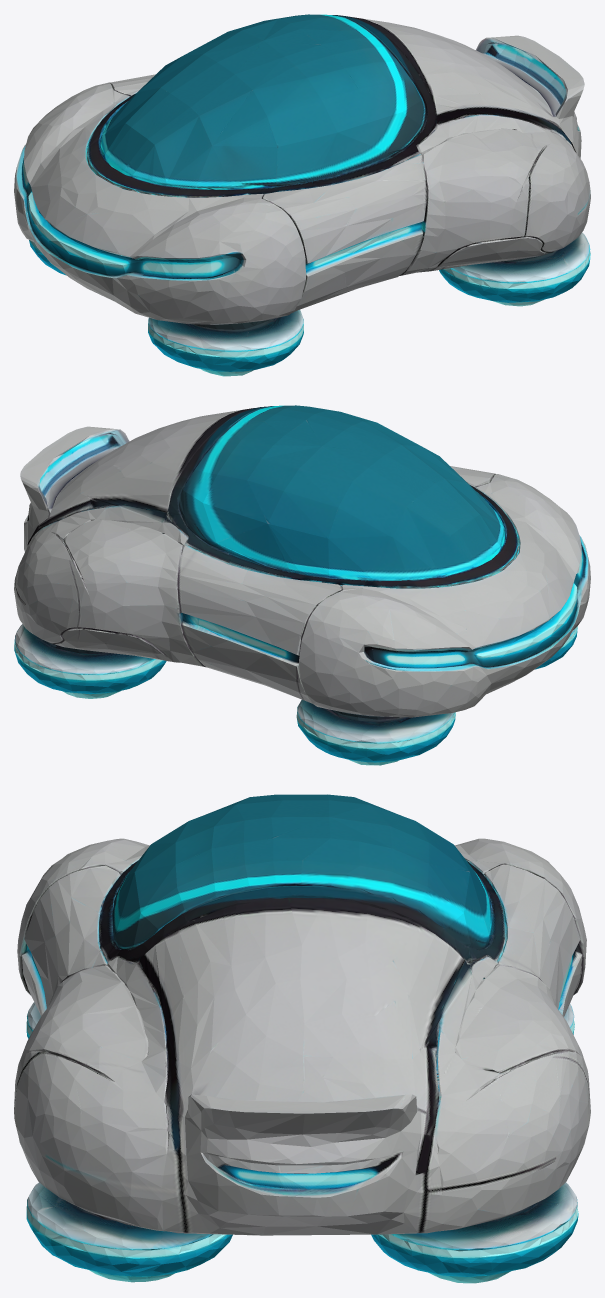
Rendered from hover_car.glb.
3 renders of one model, top to bottom at view 1: azimuth 30°, elevation 25°; view 2: azimuth 150°, elevation 25°; view 3: azimuth 270°, elevation 25°, orthographic. The views are drawn at different scales.
Parts seen in each view (by area): view 1: geometry_0; view 2: geometry_0; view 3: geometry_0.
Part boxes in pixels (left/top/right/bottom): geometry_0: left=14, top=14, right=590, bottom=376; geometry_0: left=14, top=405, right=590, bottom=765; geometry_0: left=14, top=794, right=590, bottom=1283.
Bounding box in the file's own units: 1.9 × 0.896 × 1.36.
1 material, 1 textured.
